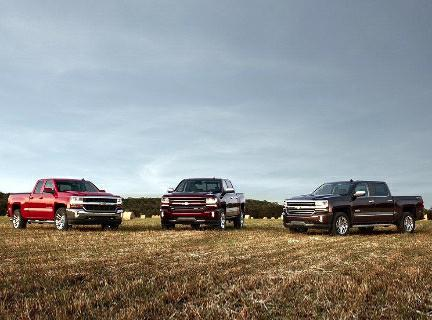雪佛兰-索罗德: (280, 176, 428, 241), (6, 176, 128, 237), (156, 174, 247, 228)
